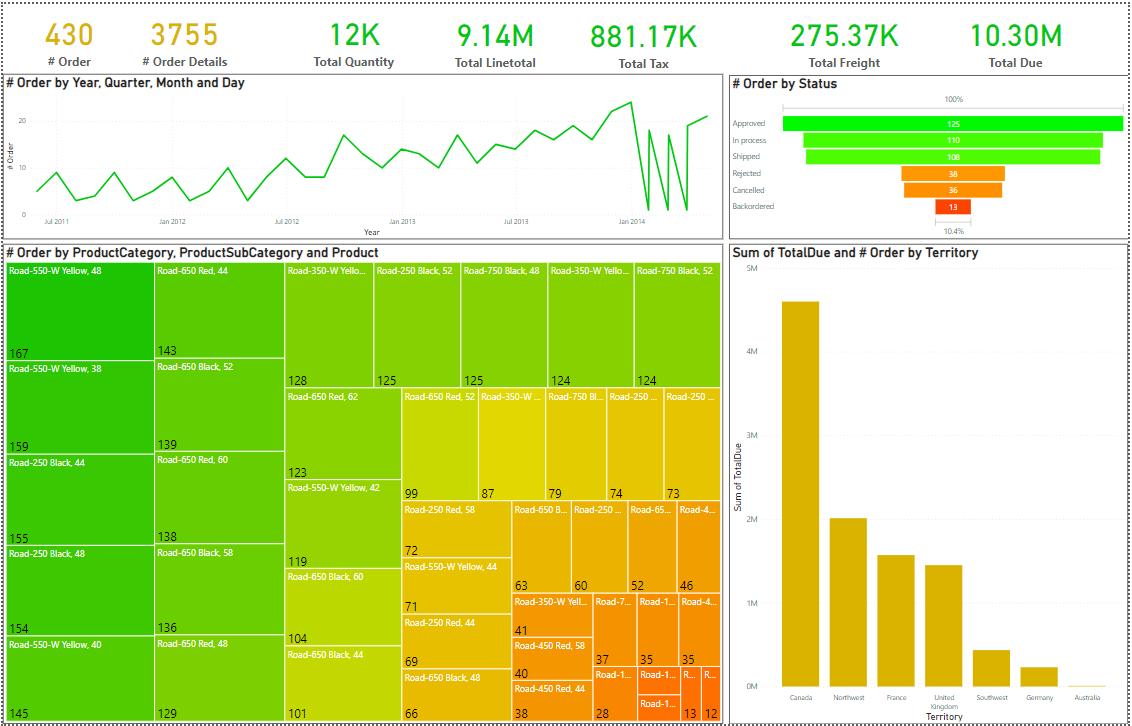

This screenshot's page, from the dashboard's own definition file:
{"tool":"powerbi","page":{"name":"Dashboard","canvas":[2000,1280],"ordinal":0},"visuals":[{"type":"card","fields":{"Values":["Fact_Order.# Order"]},"box":[30,0,174,124],"z":0},{"type":"card","fields":{"Values":["Fact_Order.# Order Details"]},"box":[232,0,184,124],"z":1000},{"type":"card","fields":{"Values":["Fact_Order.Total Linetotal"]},"box":[770,0,208,126],"z":2000},{"type":"card","fields":{"Values":["Fact_Order.Total Freight"]},"box":[1391.1,0,208.9,126.7],"z":3000},{"type":"card","fields":{"Values":["Fact_Order.Total Due"]},"box":[1695.6,0,208.9,126.7],"z":4000},{"type":"card","fields":{"Values":["Fact_Order.Total Tax"]},"box":[1033.3,2.2,211.1,126.7],"z":5000},{"type":"lineChart","fields":{"Y":["Fact_Order.# Order"],"Category":["Fact_Order.OrderDate.Variation.Date Hierarchy.Year","Fact_Order.OrderDate.Variation.Date Hierarchy.Quarter","Fact_Order.OrderDate.Variation.Date Hierarchy.Month","Fact_Order.OrderDate.Variation.Date Hierarchy.Day"]},"box":[0,124.4,1280,293.3],"z":6000},{"type":"treemap","fields":{"Values":["Fact_Order.# Order"],"Group":["Dim_Product.ProductCategory Hierarchy.ProductCategory","Dim_Product.ProductCategory Hierarchy.ProductSubCategory","Dim_Product.ProductCategory Hierarchy.Product"]},"box":[0,427.1,1280,852.9],"z":7000},{"type":"funnel","fields":{"Y":["Fact_Order.# Order"],"Category":["Fact_Order.Status"]},"box":[1290,125.7,710,291.4],"z":8000},{"type":"clusteredColumnChart","fields":{"Category":["Fact_Order.Territory"],"Y":["Sum(Fact_Order.TotalDue)"]},"box":[1291.1,426.7,708.9,853.3],"z":9000},{"type":"card","fields":{"Values":["Fact_Order.Qty"]},"box":[518,0,212,124],"z":10000}]}

Visuals, with their boxes in screenshot pixels (x1, y1, x2, y2), scaled from the page's 2000x1280 canvas onto the 1132x726 screenshot:
card - Fact_Order.# Order: (17, 0, 115, 70)
card - Fact_Order.# Order Details: (131, 0, 235, 70)
card - Fact_Order.Total Linetotal: (436, 0, 554, 71)
card - Fact_Order.Total Freight: (787, 0, 906, 72)
card - Fact_Order.Total Due: (960, 0, 1078, 72)
card - Fact_Order.Total Tax: (585, 1, 704, 73)
lineChart - Fact_Order.# Order x Fact_Order.OrderDate.Variation.Date Hierarchy.Year: (0, 71, 724, 237)
treemap - Fact_Order.# Order x Dim_Product.ProductCategory Hierarchy.ProductCategory: (0, 242, 724, 725)
funnel - Fact_Order.# Order x Fact_Order.Status: (730, 71, 1131, 237)
clusteredColumnChart - Fact_Order.Territory x Sum(Fact_Order.TotalDue): (731, 242, 1131, 725)
card - Fact_Order.Qty: (293, 0, 413, 70)
